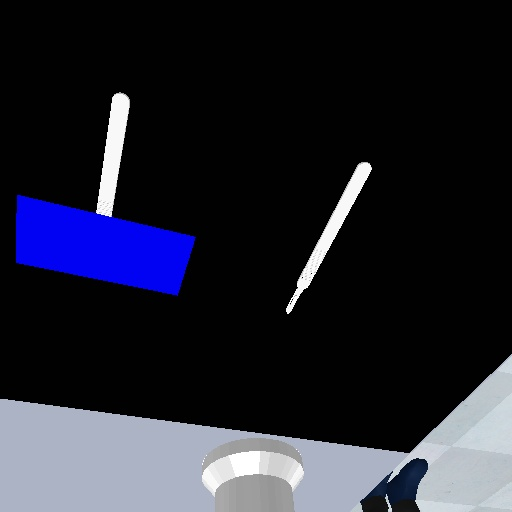bisturi: (280, 158, 375, 316), (94, 88, 133, 218)
